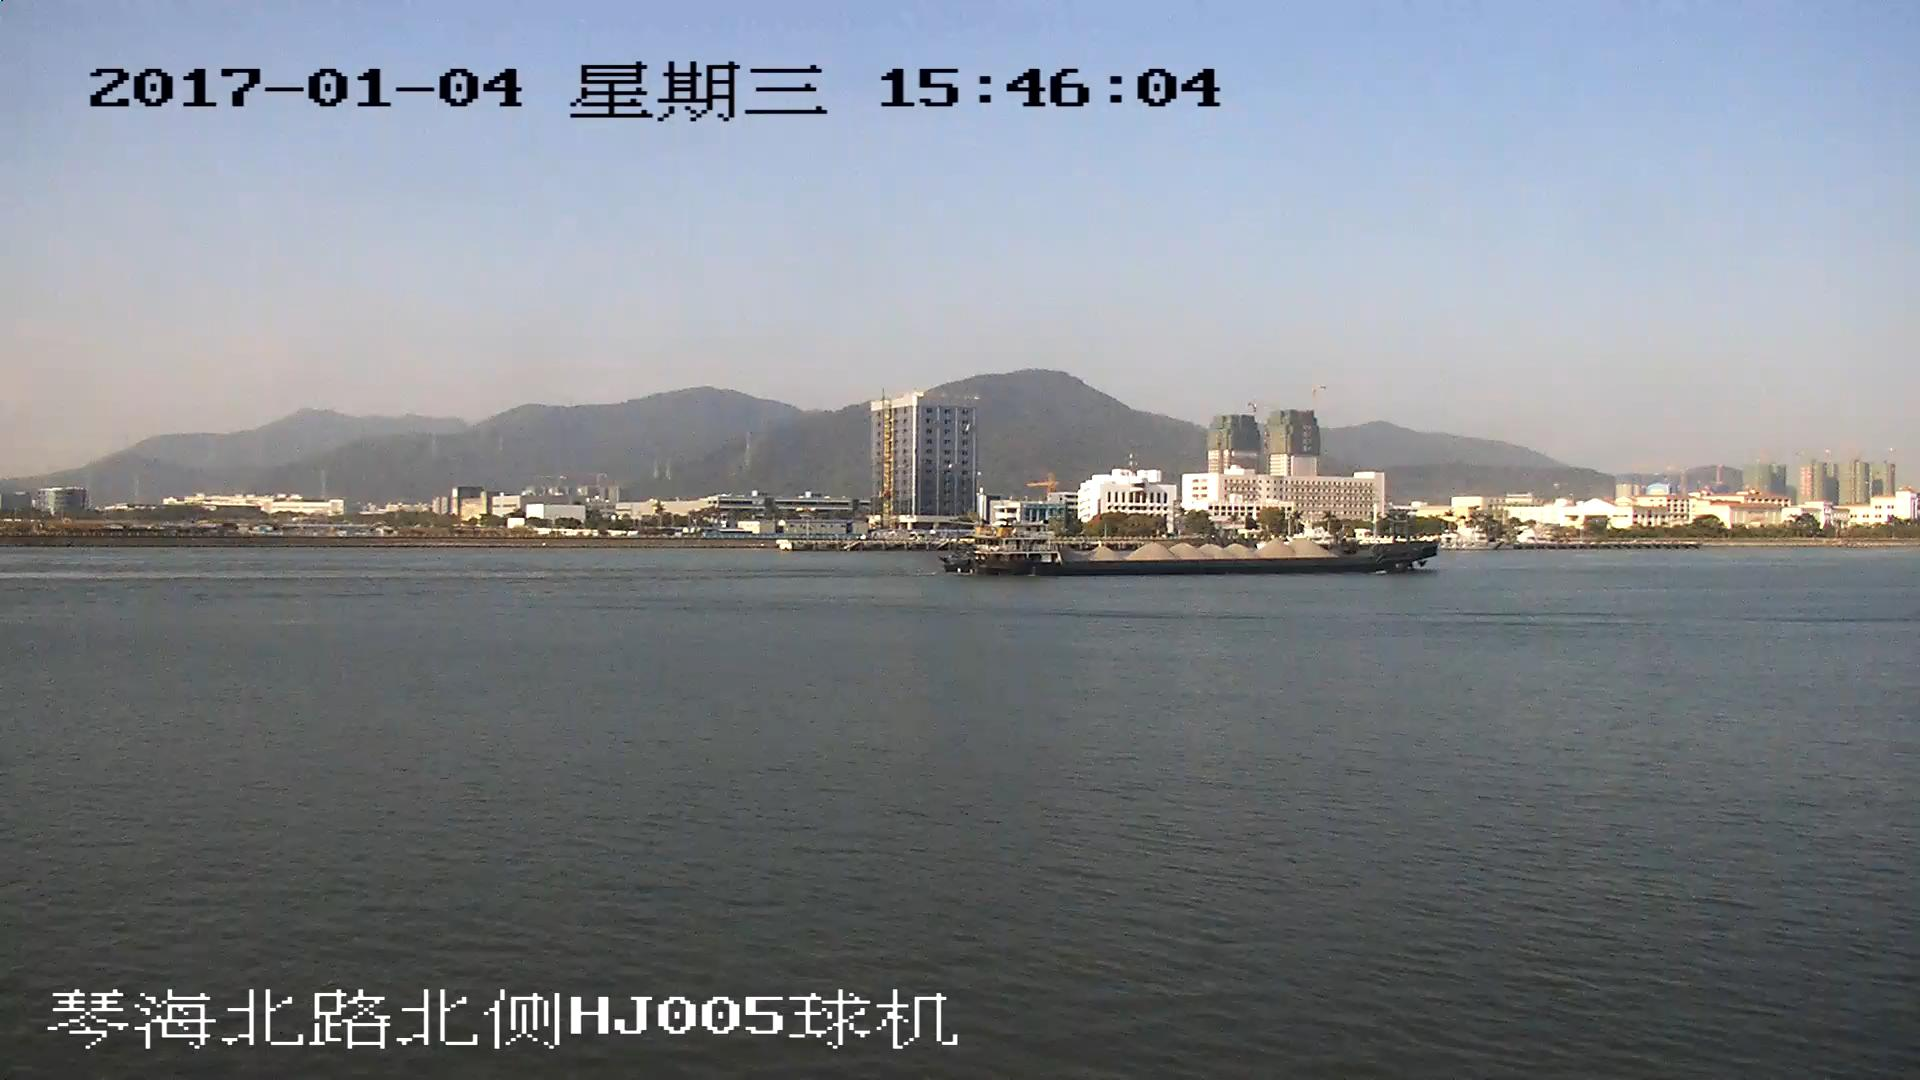ore carrier: (949, 520, 1438, 578)
